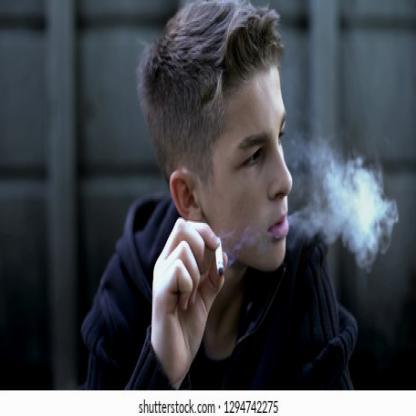cigarette: (214, 235, 224, 277)
person: (81, 0, 362, 394)
smoke: (312, 156, 400, 272)
